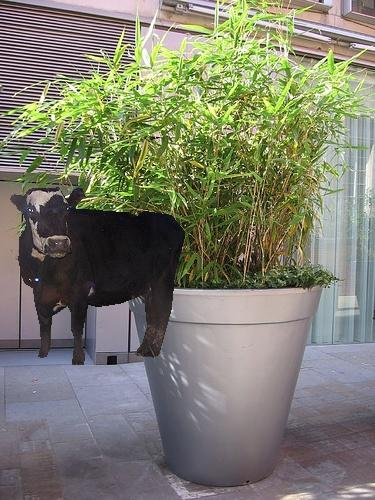tampered: (11, 188, 185, 365)
